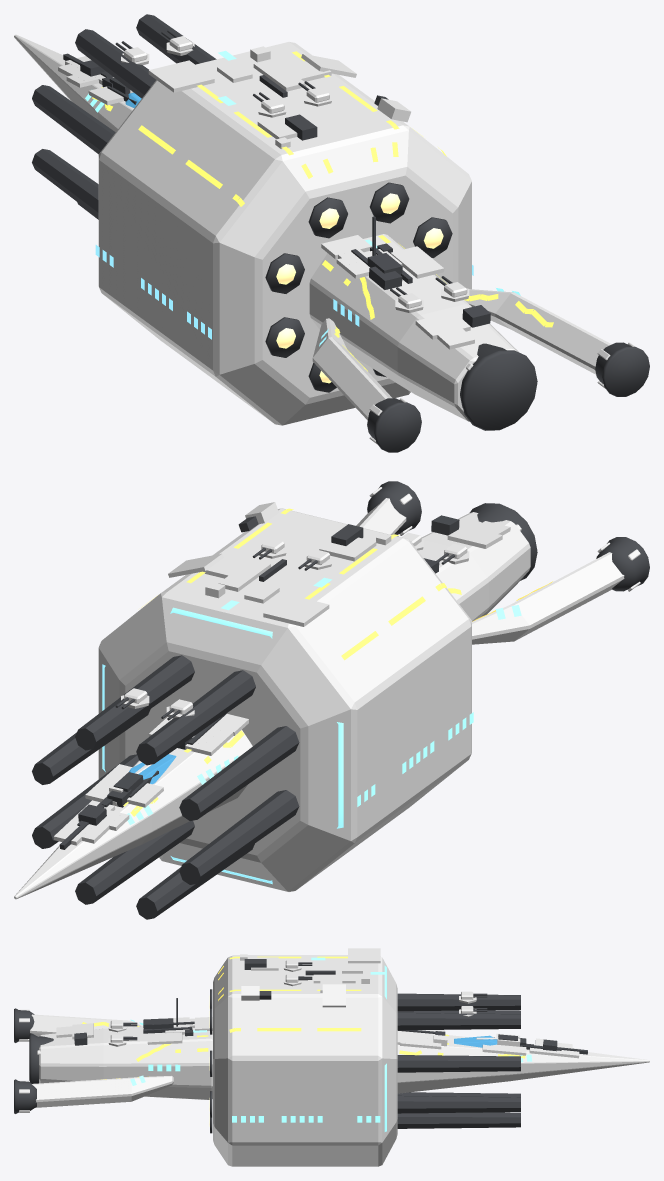
The model's file is vihr.glb.
The picture shows the model from 3 angles, top to bottom: view 1: azimuth 30°, elevation 25°; view 2: azimuth 150°, elevation 25°; view 3: azimuth 270°, elevation 25°; orthographic projection. The views are drawn at different scales.
Parts seen in each view (by area): view 1: Барабан, Корма, Накладные_плиты, Кожух_дюзы.002, Хвост, Механика, Хвост.001, Разметка, Нос, Ствол.003, Кожух_дюзы.001, Кожух_дюзы (+9 smaller); view 2: Барабан, Накладные_плиты, Нос, Корма, Хвост.001, Ствол.003, Ствол.004, Ствол.002, Механика, Ствол.001, Ствол.006, Разметка (+9 smaller); view 3: Барабан, Корма, Накладные_плиты, Нос, Хвост, Ствол, Ствол.007, Ствол.001, Механика, Ствол.006, Ствол.002, Разметка (+7 smaller).
Boxes of the visible parts, x1,y1,x2,y2 form: Барабан: (98, 42, 471, 425); Корма: (309, 234, 519, 421); Накладные_плиты: (58, 46, 474, 349); Кожух_дюзы.002: (460, 343, 537, 430); Хвост: (465, 289, 611, 374); Механика: (63, 53, 490, 327); Хвост.001: (312, 318, 392, 420); Разметка: (92, 51, 553, 371); Нос: (14, 34, 133, 131); Ствол.003: (32, 85, 115, 154); Кожух_дюзы.001: (367, 398, 421, 452); Кожух_дюзы: (595, 342, 649, 396); Барабан: (98, 508, 471, 891); Накладные_плиты: (53, 502, 510, 845); Нос: (14, 730, 252, 899); Корма: (418, 512, 530, 621); Хвост.001: (472, 552, 624, 644); Ствол.003: (179, 726, 299, 820); Ствол.004: (179, 790, 299, 884); Ствол.002: (136, 670, 255, 765); Механика: (59, 515, 459, 849); Ствол.001: (75, 655, 194, 750); Ствол.006: (75, 820, 194, 904); Разметка: (123, 508, 552, 816); Барабан: (213, 955, 397, 1166); Корма: (39, 1026, 212, 1099); Накладные_плиты: (56, 948, 579, 1058); Нос: (397, 1035, 649, 1093); Хвост: (32, 1076, 173, 1107); Ствол: (397, 1055, 520, 1072); Ствол.007: (397, 1095, 520, 1113); Ствол.001: (397, 1012, 520, 1030); Механика: (74, 959, 587, 1054); Ствол.006: (397, 1112, 520, 1128); Ствол.002: (397, 993, 520, 1011); Разметка: (82, 956, 525, 1079).
Size of the model in its own units: 0.725 by 0.7095 by 2.27.
